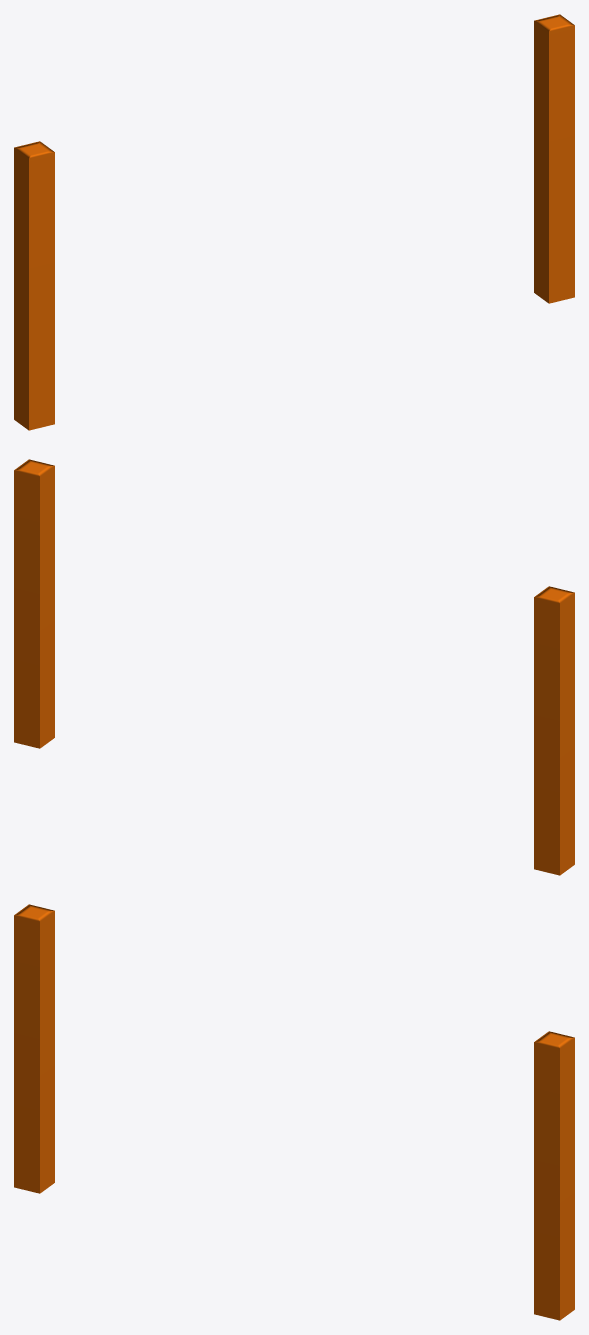
File: RailingSupport.fbx
3 renders of one model, top to bottom at view 1: azimuth 30°, elevation 25°; view 2: azimuth 150°, elevation 25°; view 3: azimuth 330°, elevation 25°, orthographic.
Visible parts, largest first — view 1: polySurface120; view 2: polySurface120; view 3: polySurface120.
Boxes of the visible parts, box(x1,y1,x2,y2) form: polySurface120: box(14, 14, 574, 430); polySurface120: box(14, 459, 574, 875); polySurface120: box(14, 904, 574, 1320).
Bounding box in the file's own units: 1.05 × 0.5 × 0.05.
